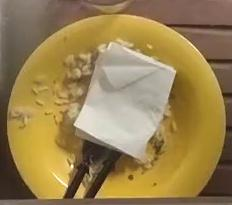rice: (48, 49, 98, 130)
